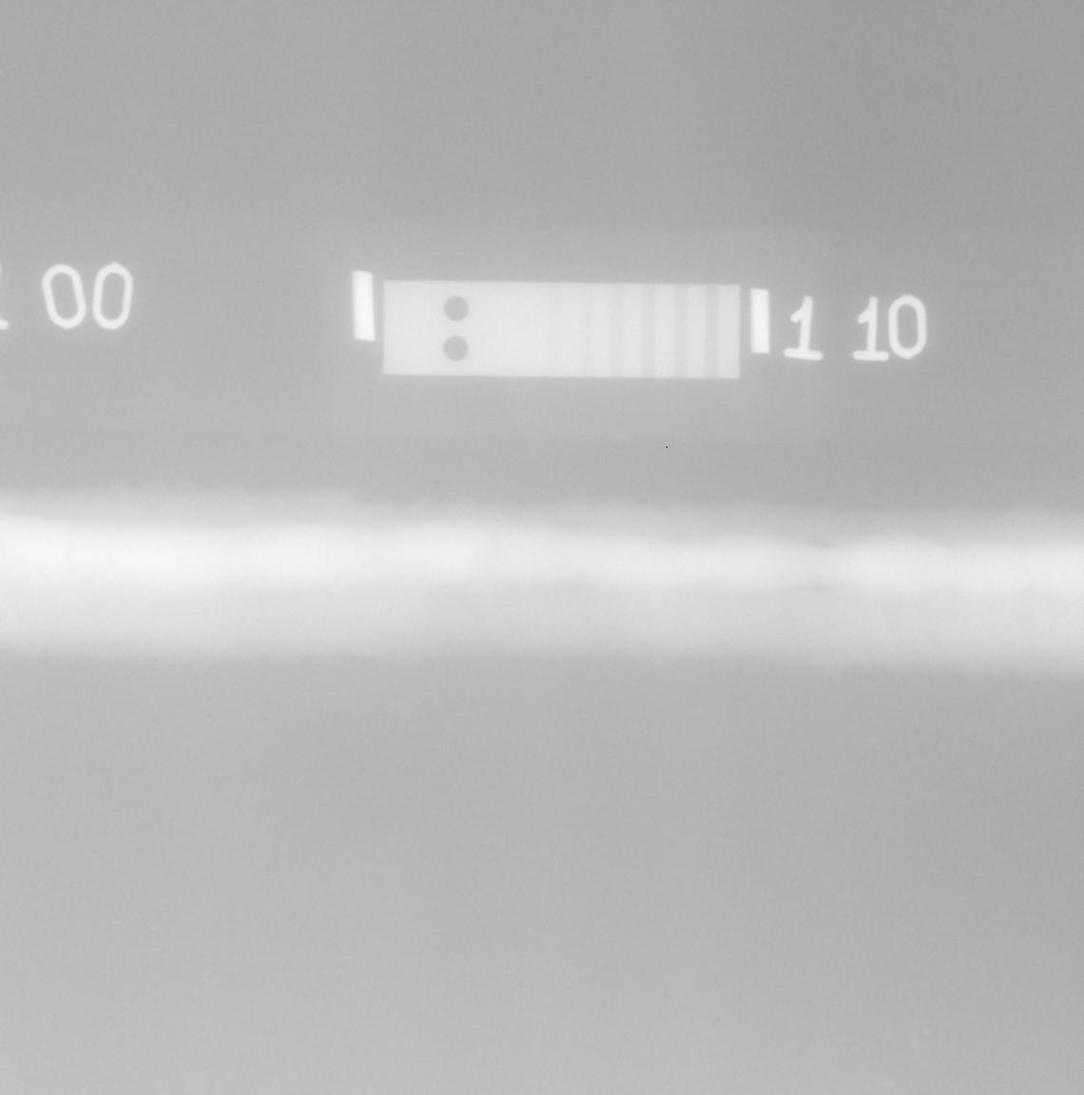Reference Standard 2: (383, 280, 740, 379)
